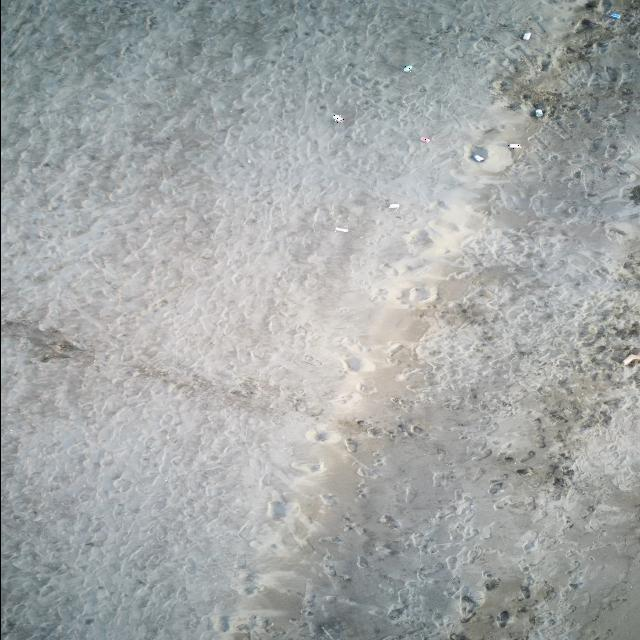Garbage: (470, 145, 487, 161), (628, 184, 639, 204), (580, 18, 596, 30), (623, 353, 639, 364), (344, 438, 356, 452), (471, 152, 484, 161), (533, 108, 543, 118), (332, 114, 343, 123), (584, 0, 596, 7), (522, 32, 531, 40), (608, 12, 620, 18), (420, 136, 430, 143), (403, 64, 412, 71), (335, 227, 347, 232), (508, 143, 520, 148), (388, 203, 399, 207)
